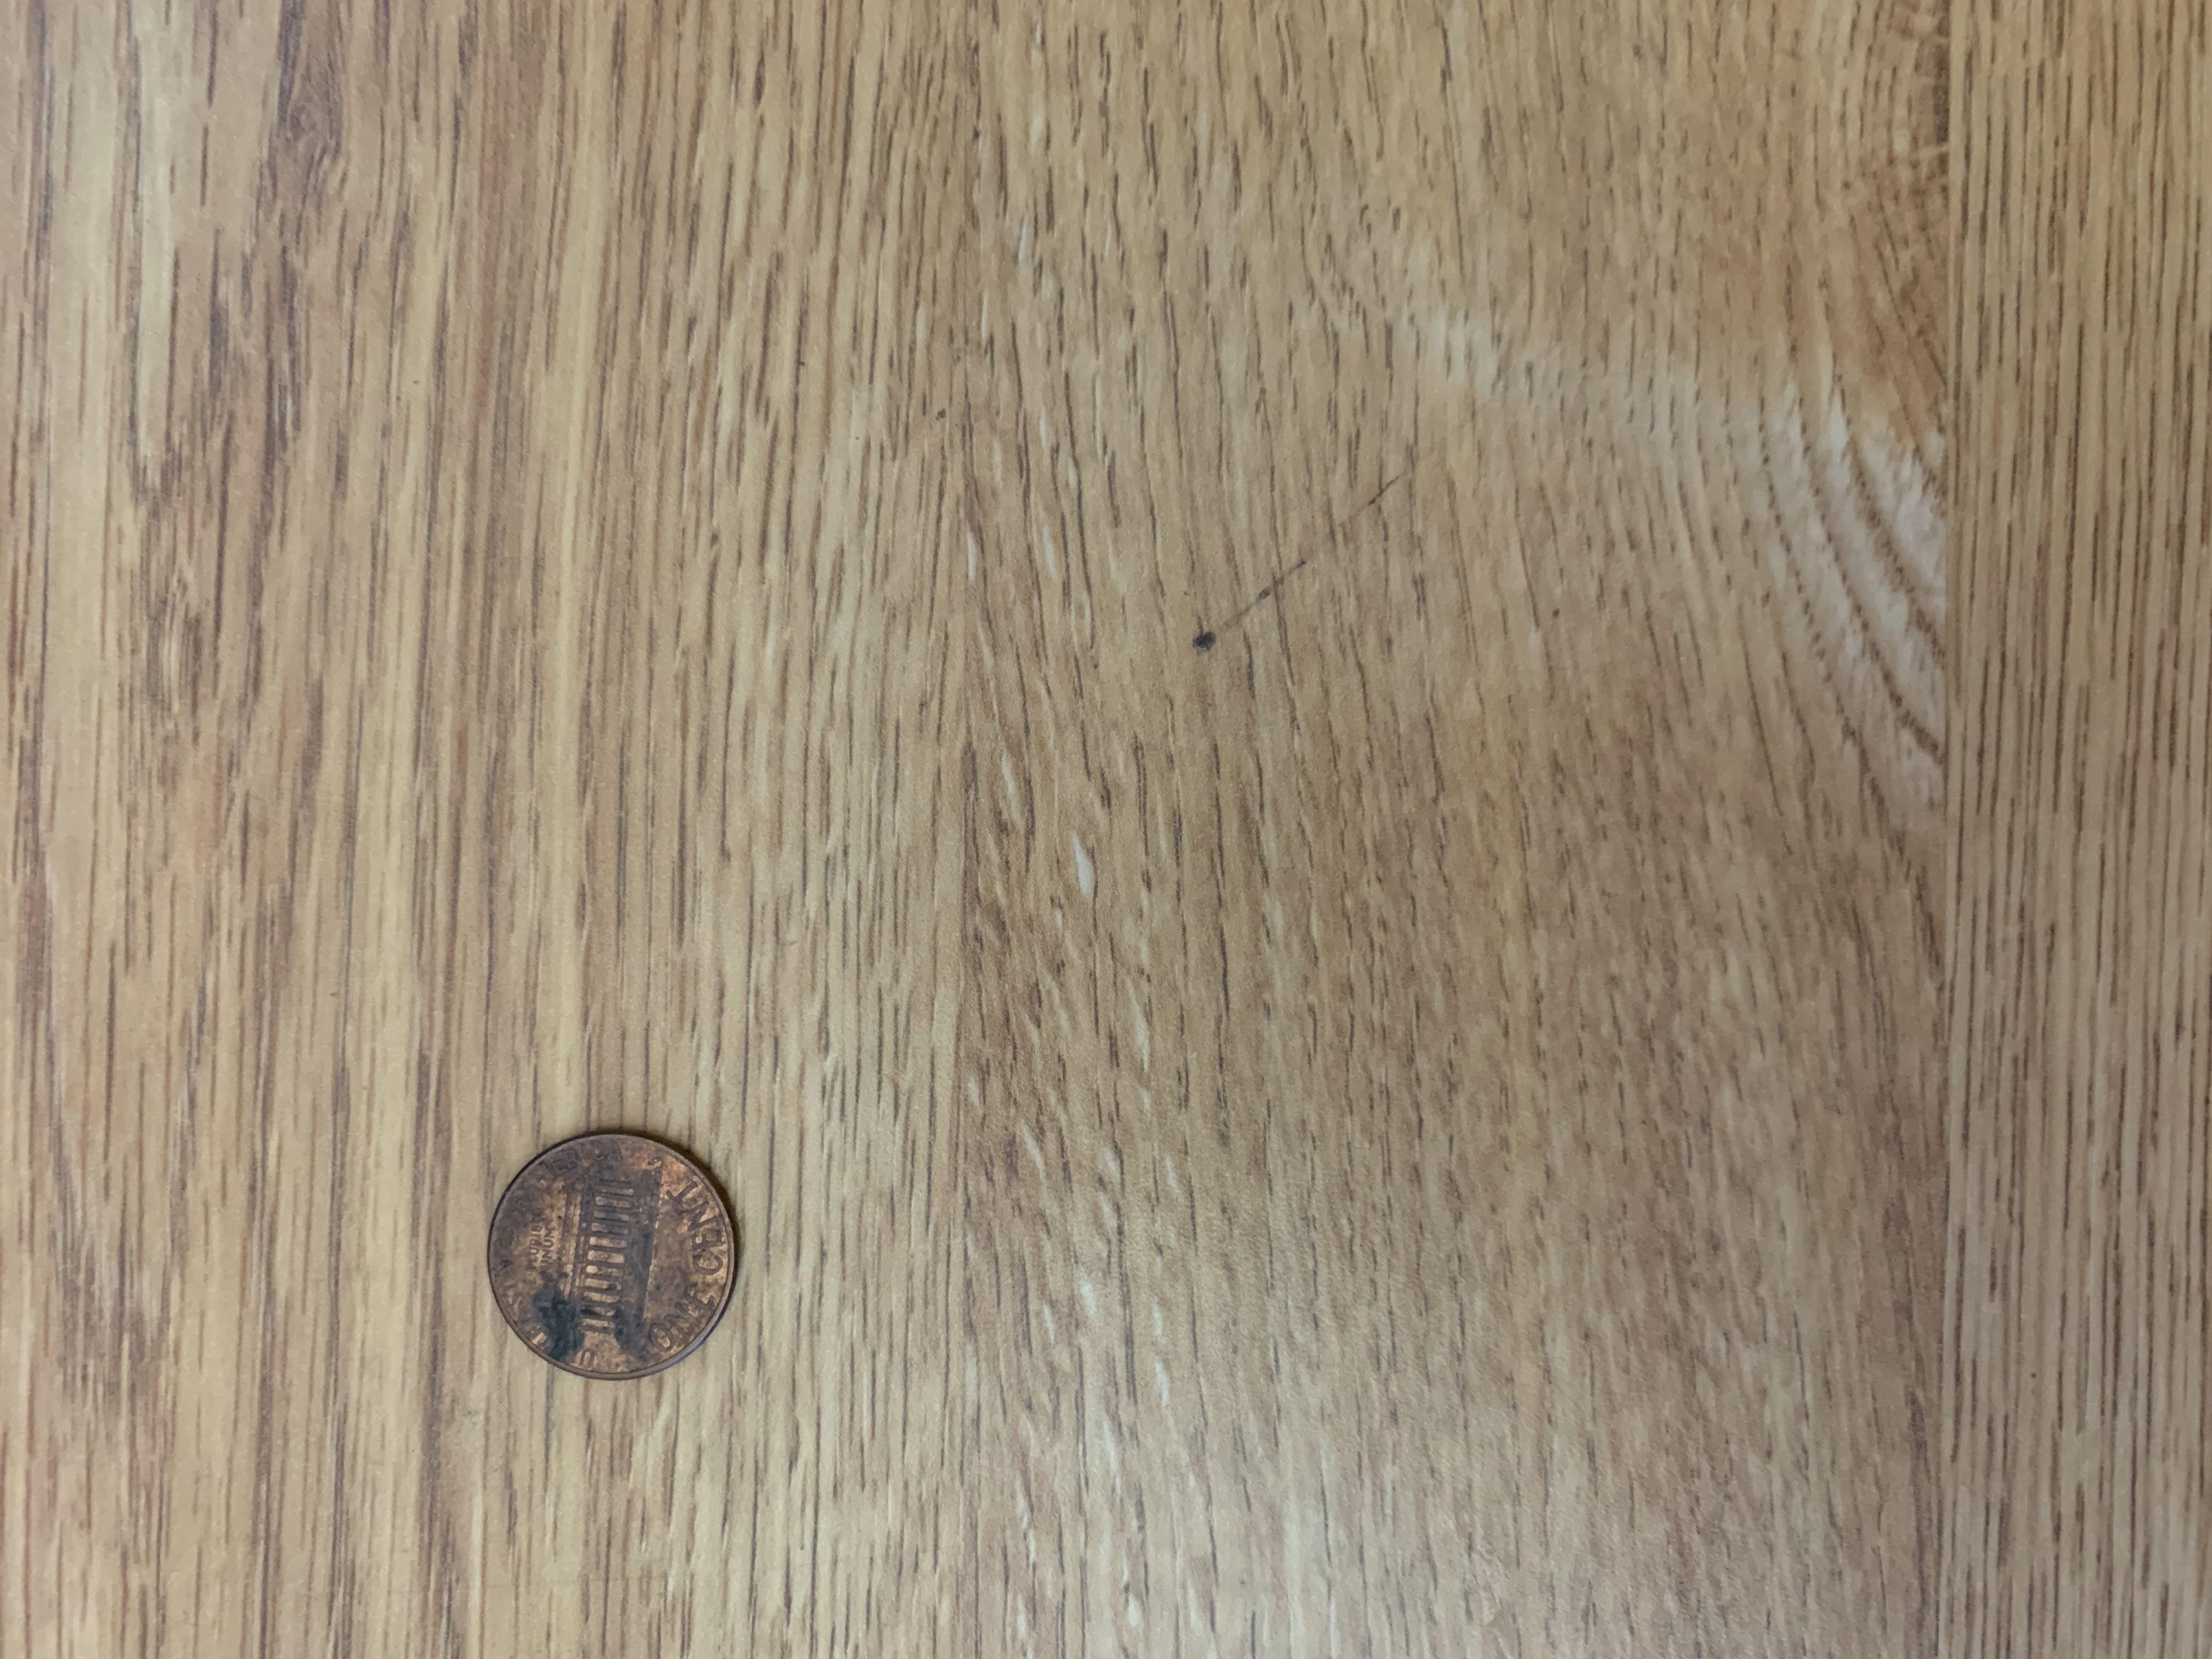Penny: (479, 1121, 740, 1389)
